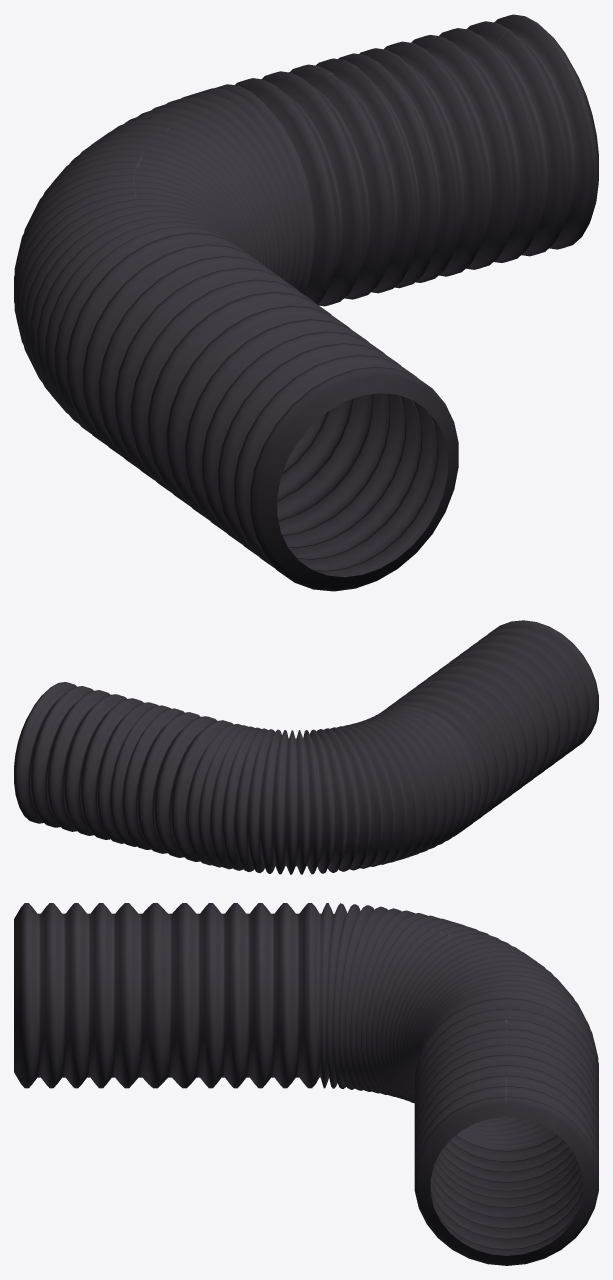
The model's file is SM_VentilatorPipeCorner.fbx.
3 views of the same model, one above another, from view 1: azimuth 30°, elevation 25°; view 2: azimuth 150°, elevation 25°; view 3: azimuth 270°, elevation 25° (orthographic). The views are drawn at different scales.
Visible parts, largest first — view 1: SM_VentilatorPipeCorner_LOD0; view 2: SM_VentilatorPipeCorner_LOD0; view 3: SM_VentilatorPipeCorner_LOD0.
Boxes of the visible parts, x1=… form: SM_VentilatorPipeCorner_LOD0: x1=14, y1=14, x2=598, y2=591; SM_VentilatorPipeCorner_LOD0: x1=14, y1=620, x2=598, y2=874; SM_VentilatorPipeCorner_LOD0: x1=14, y1=903, x2=598, y2=1265.
Size of the model in its own units: 132 by 142 by 45.12.
Materials: 1 (1 with a texture image).
